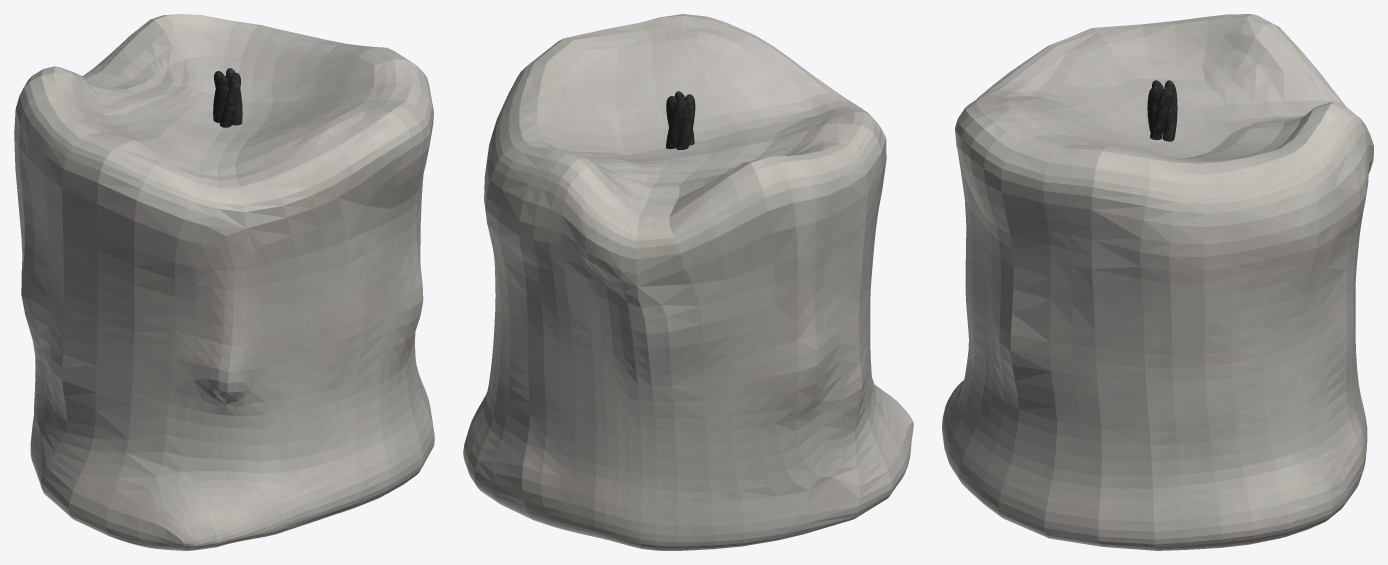
3 views of the same model, side by side, from view 1: azimuth 30°, elevation 25°; view 2: azimuth 150°, elevation 25°; view 3: azimuth 270°, elevation 25° (orthographic). The views are drawn at different scales.
Visible parts, largest first — view 1: part_00, part_01; view 2: part_00, part_01; view 3: part_00, part_01.
Boxes of the visible parts, bbox=[...] form: part_00: bbox=[14, 14, 434, 550]; part_01: bbox=[213, 68, 242, 127]; part_00: bbox=[463, 14, 913, 550]; part_01: bbox=[666, 91, 695, 149]; part_00: bbox=[942, 14, 1373, 550]; part_01: bbox=[1147, 80, 1177, 141].
Bounding box in the file's own units: 0.0745 × 0.0752 × 0.0744.
2 materials, 2 textured.
